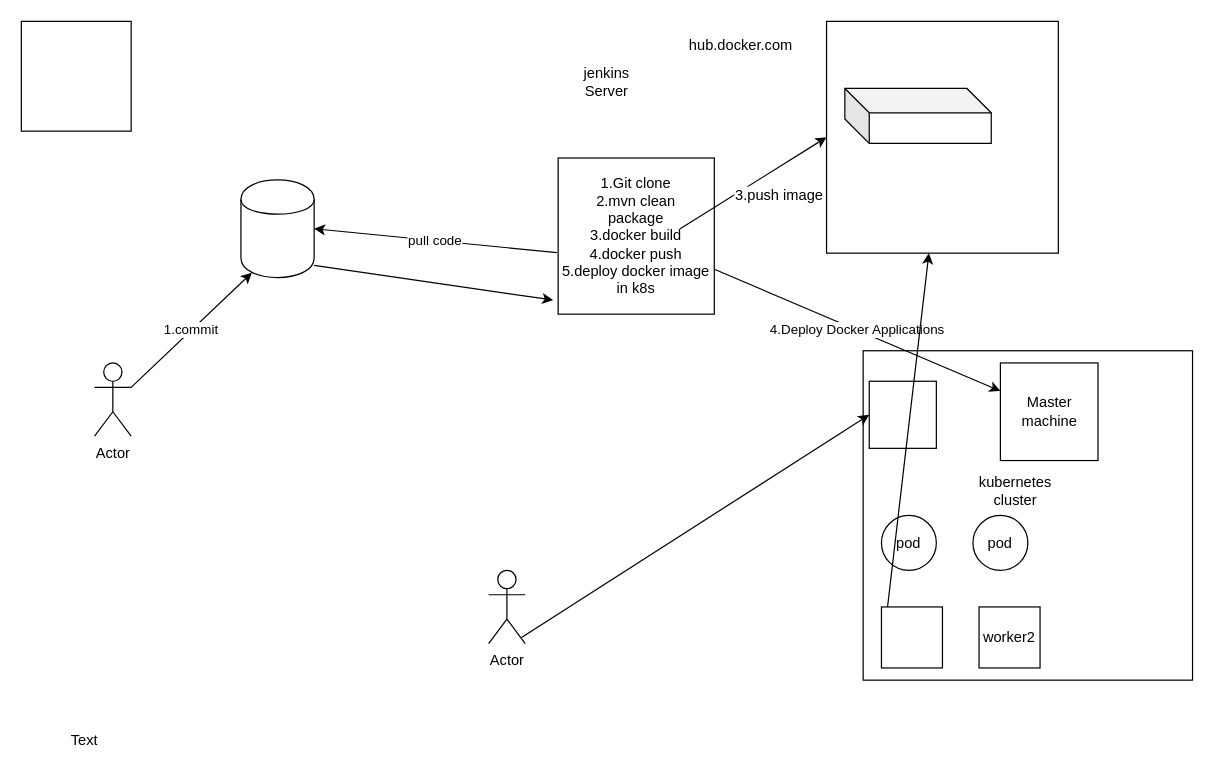
This 1214x775 diagram has some shape labels left out. Each missing label, with the centre of its shape:
"git" belongs at point 277,228.
"Node port service" belongs at point 902,414.
"Project src .java pom.xml Dockerfile project-k8s.yml" belongs at point 75,75.
"worker1" belongs at point 911,637.
